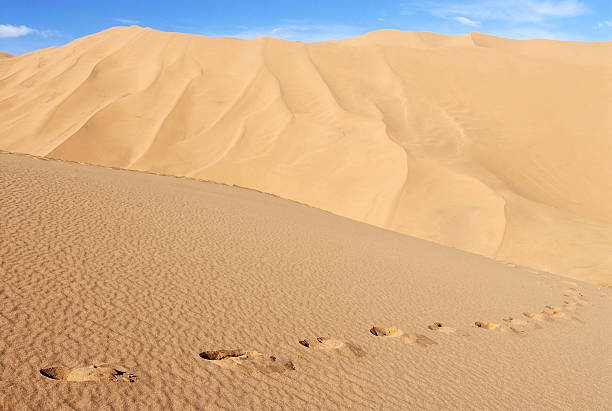human_footprint: (200, 349, 294, 371), (40, 363, 136, 381), (370, 326, 436, 347), (299, 337, 365, 356), (474, 321, 526, 335), (503, 316, 542, 331), (428, 322, 468, 335)
